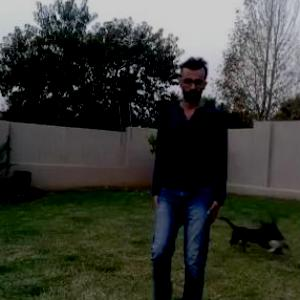follow: (152, 60, 226, 299)
